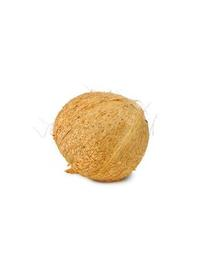coconut: (51, 92, 150, 184)
